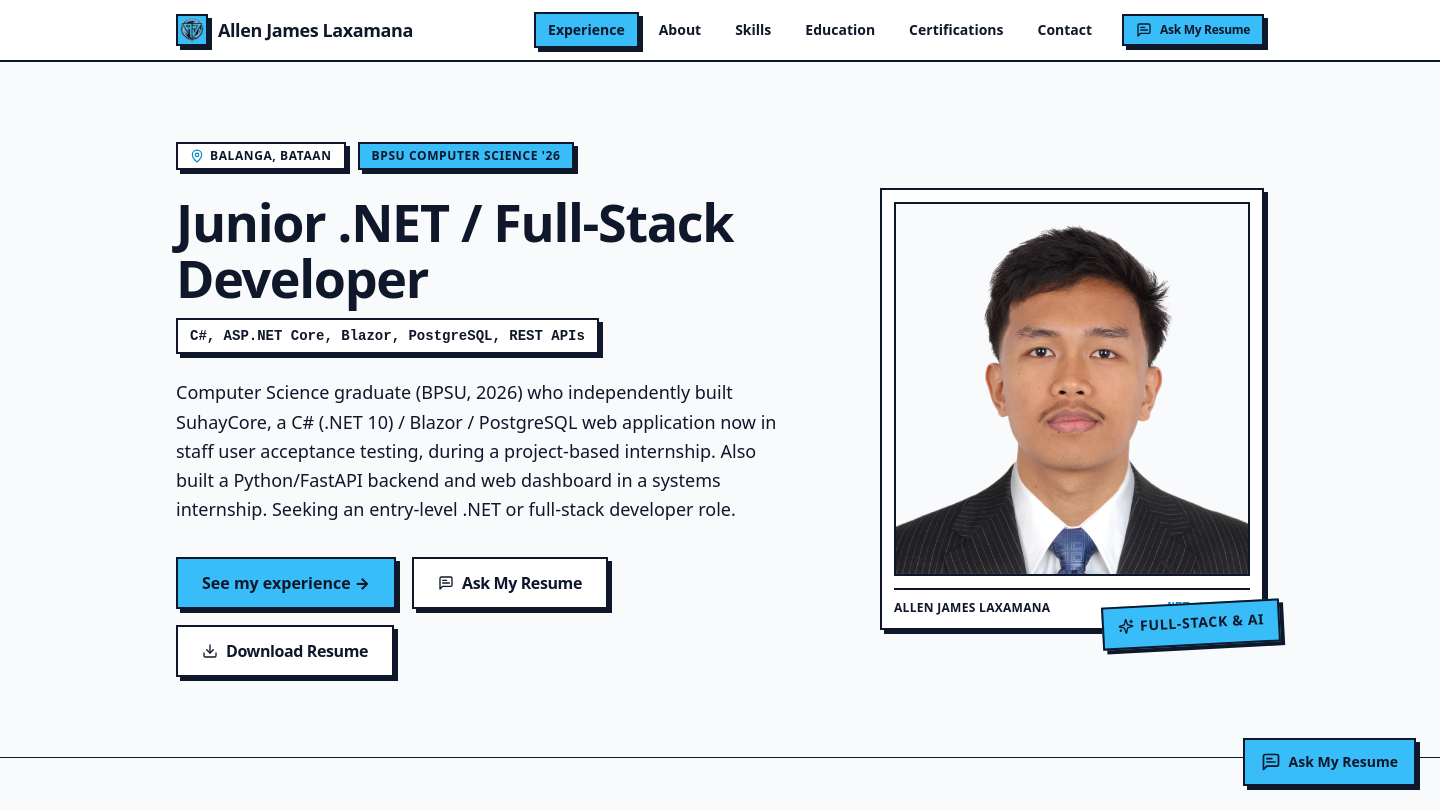
Test: User Story 1: Sticky Header, Hero & Experience Showcase › renders sticky header with brand, anchor links, active sky-blue pill, and Ask My Resume trigger
Expected: the 1st text "Allen James Laxamana" is shown, left=218, top=16, right=413, bottom=44
Expected: the link "Experience" is shown, left=534, top=12, right=639, bottom=48
Click the link "Skills": click(753, 30) left=735, top=20, right=771, bottom=39
(page scrolled)
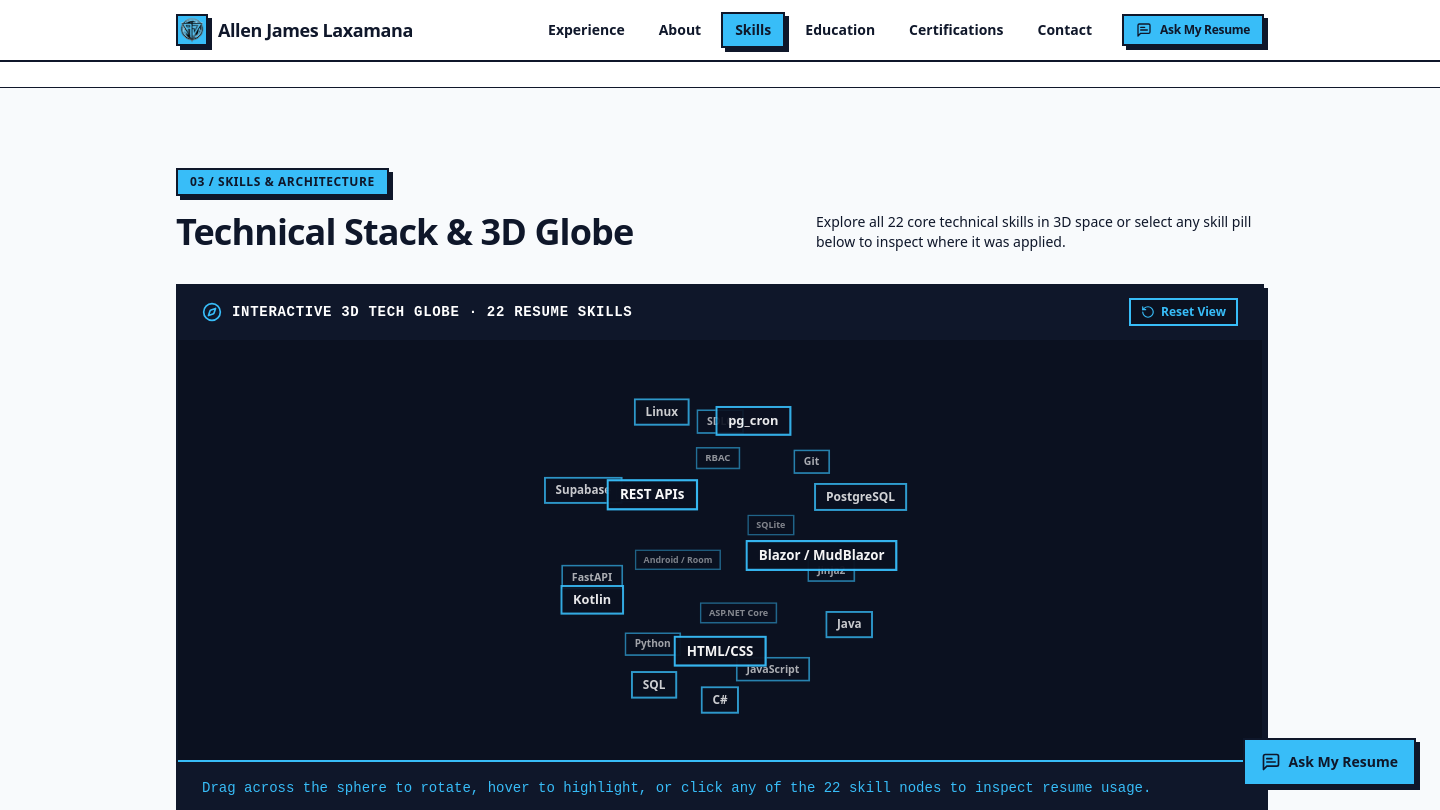
Expected: the 1st button "Ask My Resume" is shown, left=1122, top=14, right=1264, bottom=46
Result: the link "Skills" has attribute data-active="true" at left=721, top=12, right=785, bottom=48
Result: the link "Skills" has class "bg-[#38BDF8]" at left=721, top=12, right=785, bottom=48
